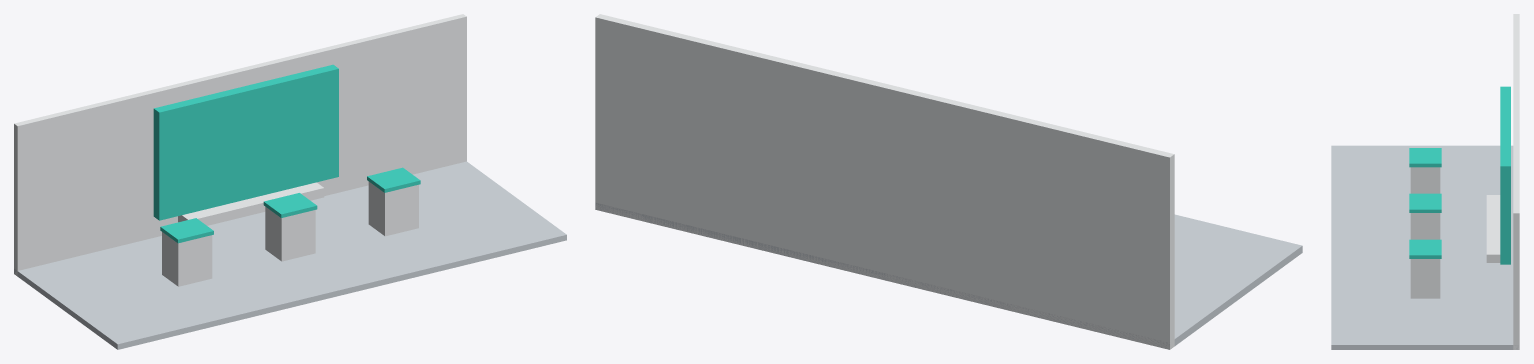
3 views of the same model, side by side, from view 1: azimuth 30°, elevation 25°; view 2: azimuth 150°, elevation 25°; view 3: azimuth 270°, elevation 25° (orthographic). The views are drawn at different scales.
Visible parts, largest first — view 1: Exhibition Booth Concept; view 2: Exhibition Booth Concept; view 3: Exhibition Booth Concept.
Boxes of the visible parts, x1,y1,x2,y2 form: Exhibition Booth Concept: (14, 14, 566, 349); Exhibition Booth Concept: (595, 14, 1302, 349); Exhibition Booth Concept: (1331, 14, 1519, 349).
Bounding box in the file's own units: 10 × 3.2 × 4.
